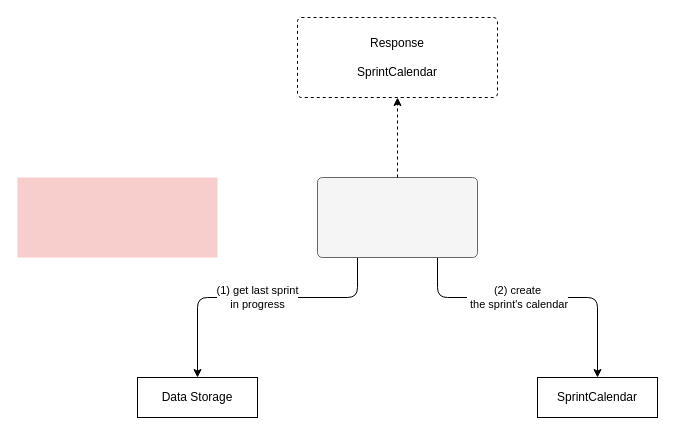
This 675x435 diagram has some shape labels left out. Here are the shapes that lost their labels. From the top down, the centre of each, then its label:
(x=117, y=217): (1) DataAccessException NoSprintInProgressException
(x=397, y=217): Present Sprint Calendar Use Case
